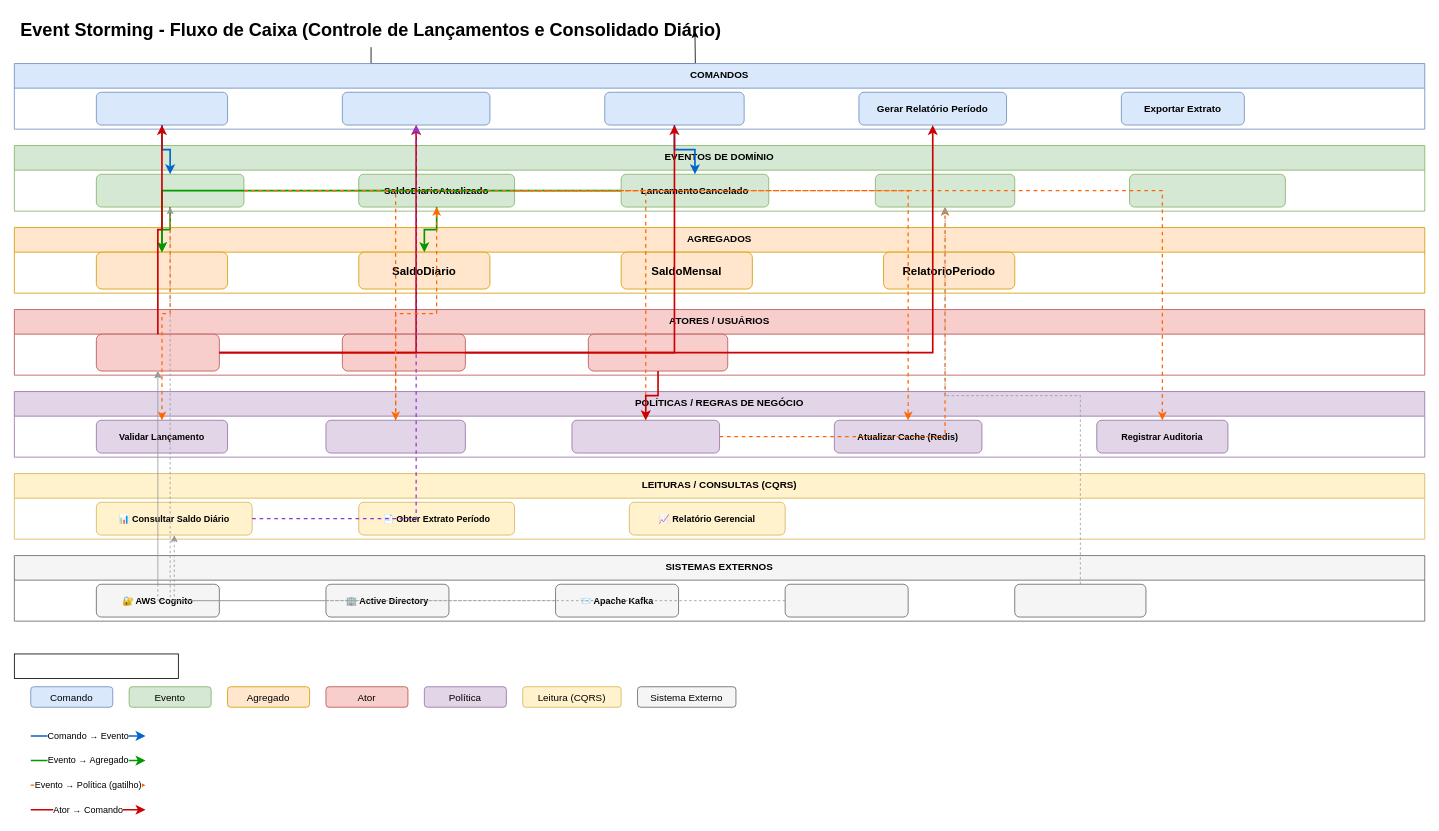
Image size: 1439x831. Some labels were removed from this diagram. Each missing label, with the centre of its shape:
"Calcular Saldo Diário" belongs at (395,436).
"Cancelar Lançamento" belongs at (674,108).
"Consultar Saldo Diário" belongs at (416,108).
"Lancamento" belongs at (162,270).
"LancamentoRegistrado" belongs at (170,190).
"LEGENDA" belongs at (96,666).
"Registrar Lançamento" belongs at (162,108).
"RelatorioPeriodoGerado" belongs at (1207,190).
"SaldoBaixoAlertado" belongs at (945,190).
"Verificar Limite de Alerta" belongs at (645,436).
"⚡ Redis Cache" belongs at (846,600).
"👤 Comerciante" belongs at (157,352).
"👨‍💼 Administrador" belongs at (403,352).
"📧 SMTP / SendGrid" belongs at (1080,600).
"🤖 Sistema (Automático)" belongs at (658,352).
